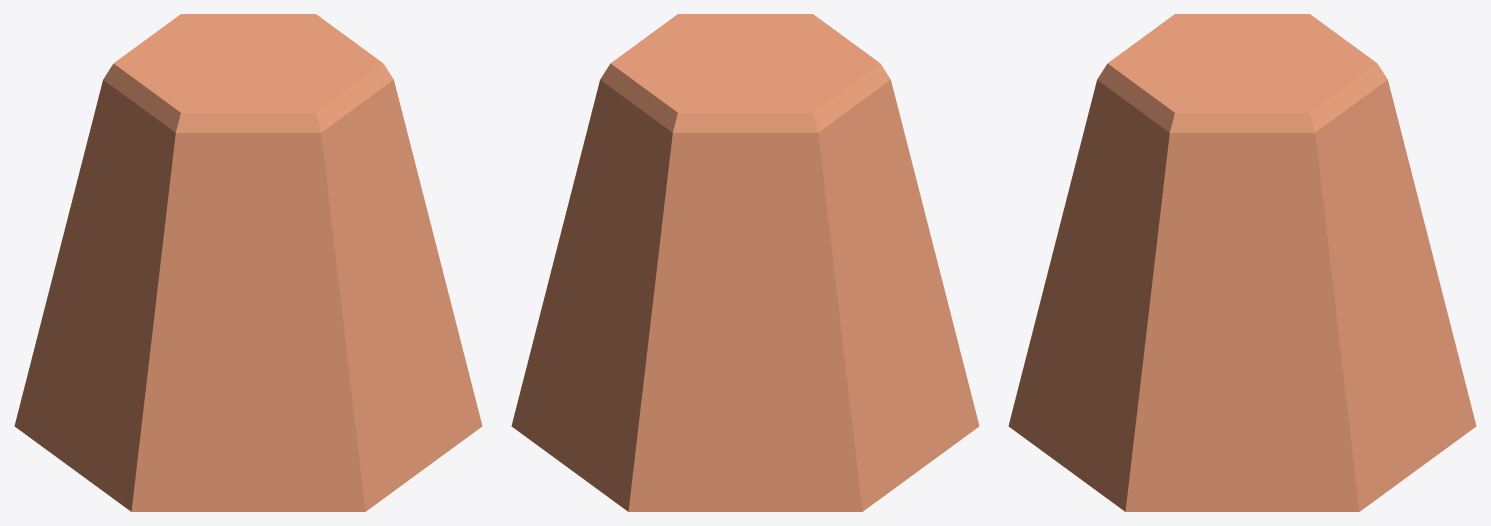
The model's file is Pine_Stump_01.fbx.
3 views of the same model, side by side, from view 1: azimuth 30°, elevation 25°; view 2: azimuth 150°, elevation 25°; view 3: azimuth 270°, elevation 25° (orthographic).
Parts seen in each view (by area): view 1: Pine_Stump_01; view 2: Pine_Stump_01; view 3: Pine_Stump_01.
Part boxes in pixels (bbox=[...]): Pine_Stump_01: bbox=[14, 14, 482, 511]; Pine_Stump_01: bbox=[511, 14, 979, 511]; Pine_Stump_01: bbox=[1008, 14, 1476, 511].
Bounding box in the file's own units: 138 × 136 × 159.
